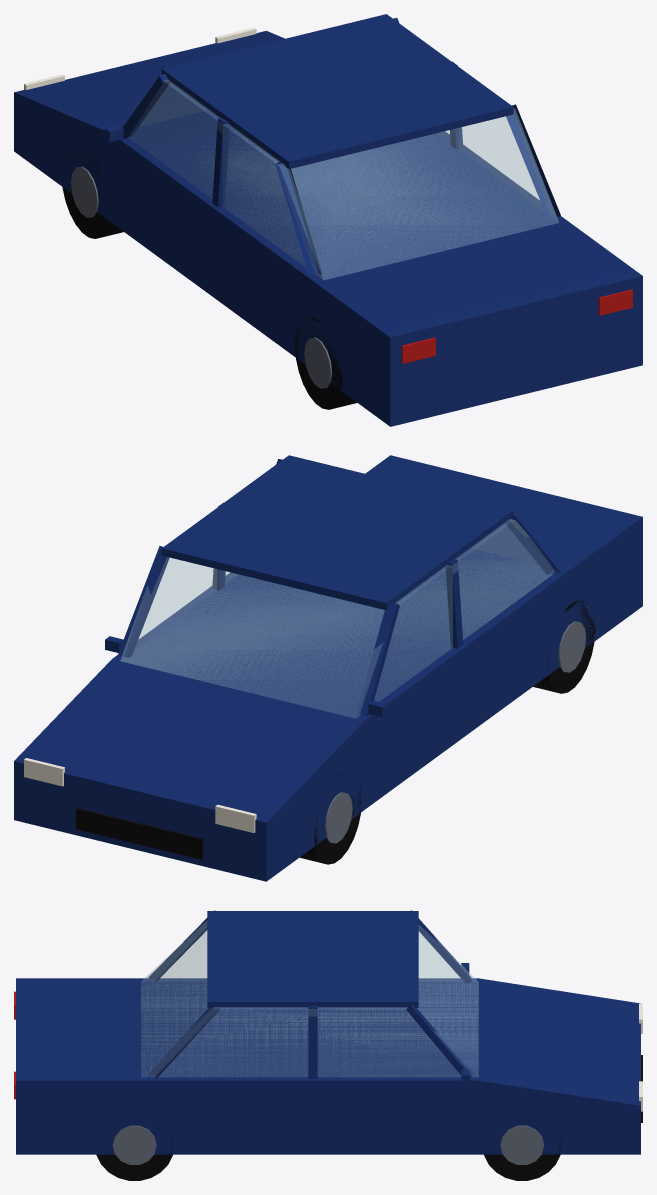
The model's file is vehicle.car.saloon_blue.glb.
3 views of the same model, one above another, from view 1: azimuth 30°, elevation 25°; view 2: azimuth 150°, elevation 25°; view 3: azimuth 270°, elevation 25° (orthographic). The views are drawn at different scales.
Parts seen in each view (by area): view 1: main__car_blue, main__glass, main__rubber, main__steel_painted, main__hazard_red, main__light_emitter; view 2: main__car_blue, main__glass, main__plastic_black, main__rubber, main__steel_painted, main__light_emitter; view 3: main__car_blue, main__glass, main__steel_painted, main__rubber.
Boxes of the visible parts, box(x1,y1,x2,y2) form: main__car_blue: box(14, 14, 642, 426); main__glass: box(129, 80, 558, 279); main__rubber: box(62, 146, 357, 409); main__steel_painted: box(71, 166, 331, 388); main__hazard_red: box(401, 289, 632, 363); main__light_emitter: box(24, 27, 256, 89); main__car_blue: box(14, 455, 642, 881); main__glass: box(120, 519, 554, 718); main__plastic_black: box(76, 808, 203, 859); main__rubber: box(300, 600, 595, 864); main__steel_painted: box(325, 621, 585, 843); main__light_emitter: box(24, 758, 256, 832); main__car_blue: box(16, 910, 640, 1154); main__glass: box(141, 921, 478, 1076); main__steel_painted: box(112, 1125, 544, 1164); main__rubber: box(95, 1109, 561, 1180).
Size of the model in its own units: 2 by 1.44 by 4.73.
